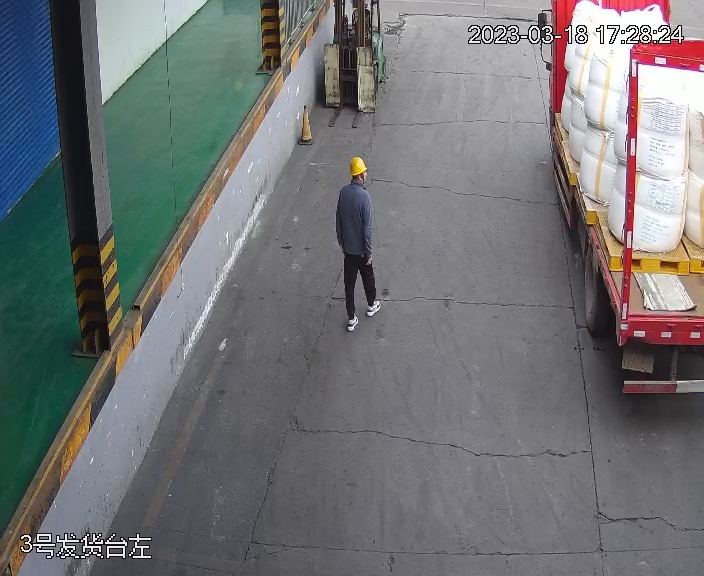head: (337, 154, 371, 206)
helmet: (349, 155, 368, 175)
people: (334, 154, 385, 328)
truck: (530, 1, 703, 399)
